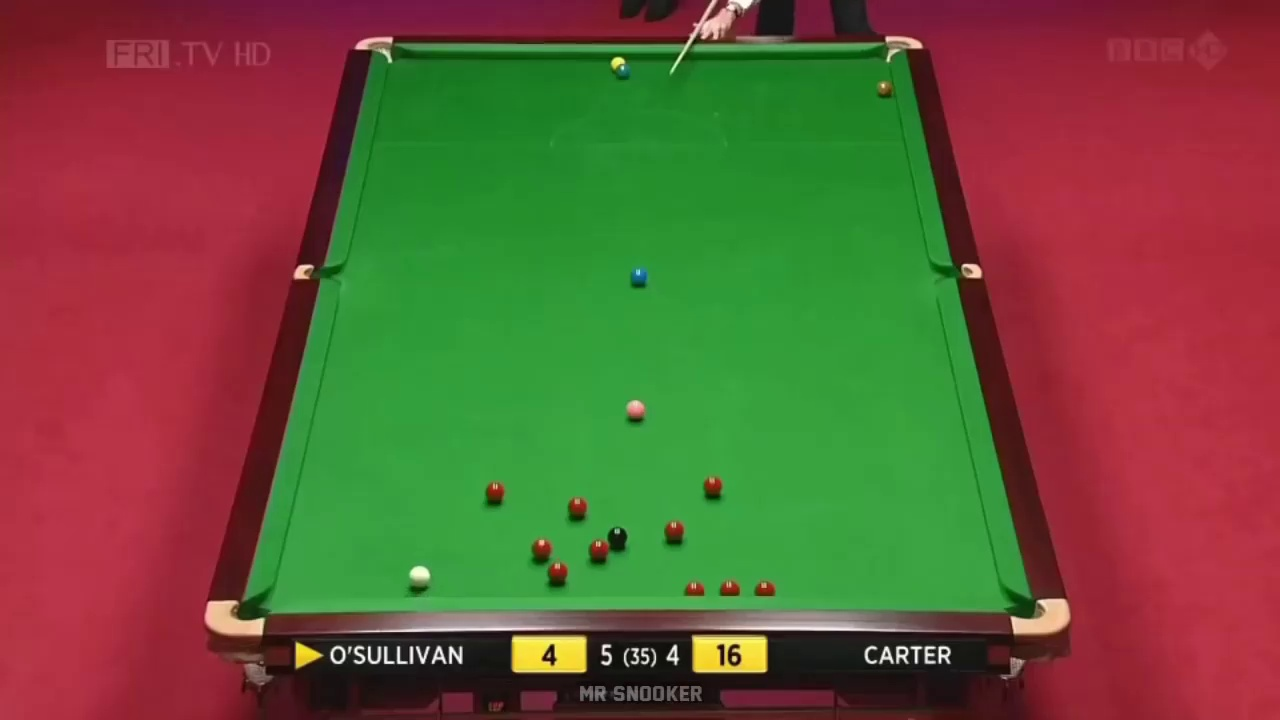black: (609, 528, 627, 550)
blue: (629, 268, 648, 286)
brown: (875, 78, 894, 97)
green: (616, 65, 632, 77)
pink: (628, 398, 646, 418)
red: (664, 520, 684, 541), (530, 540, 552, 559), (565, 498, 587, 517), (590, 537, 606, 562), (485, 483, 507, 501), (703, 477, 721, 499), (549, 562, 566, 581)
white: (407, 567, 431, 589)
